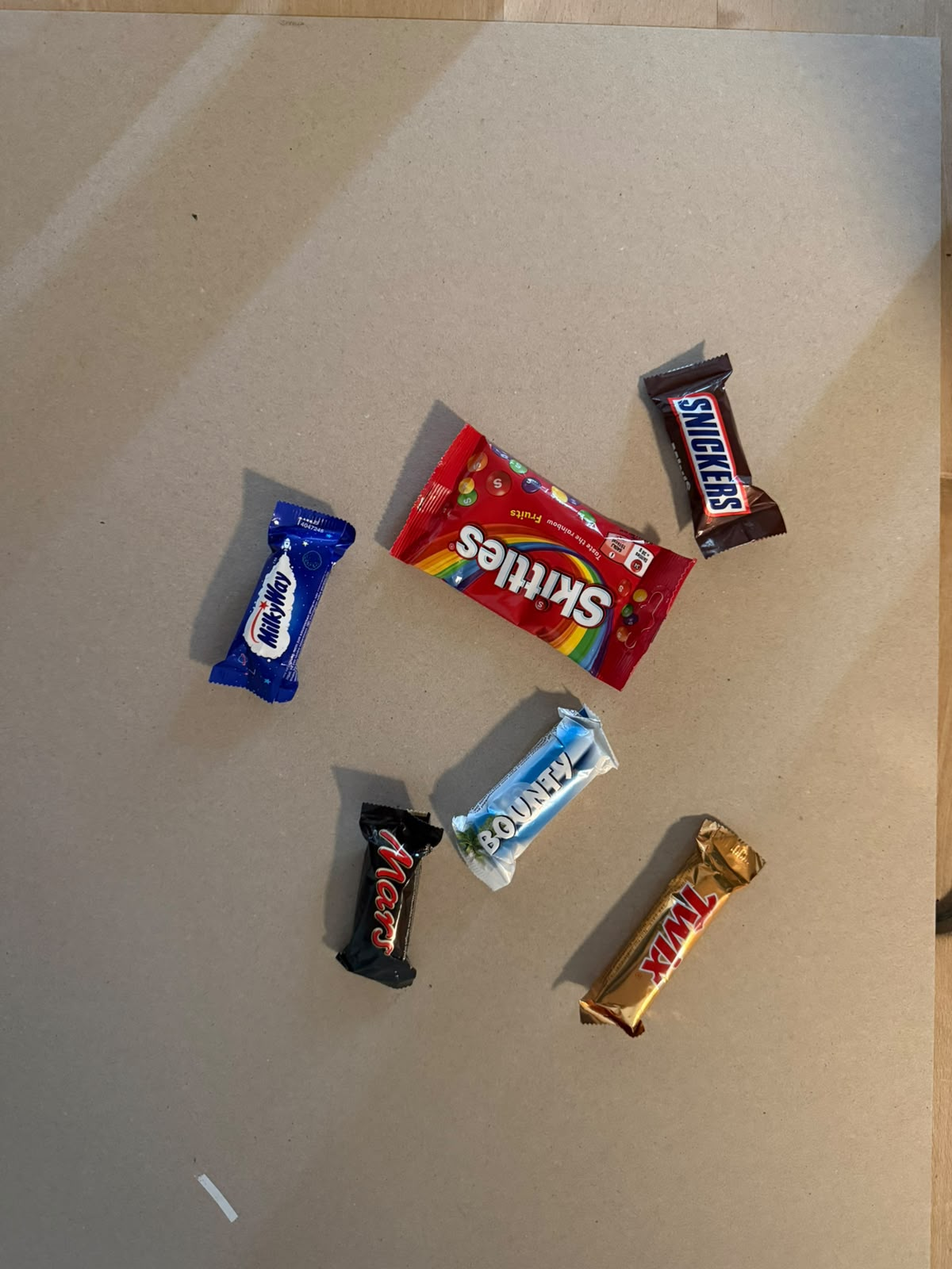Bounty: (428, 829, 628, 914)
Mars: (347, 786, 432, 999)
MilkyWay: (286, 473, 371, 702)
Skittles: (410, 372, 754, 570)
Snickers: (627, 361, 714, 607)
Twix: (713, 807, 783, 1047)
